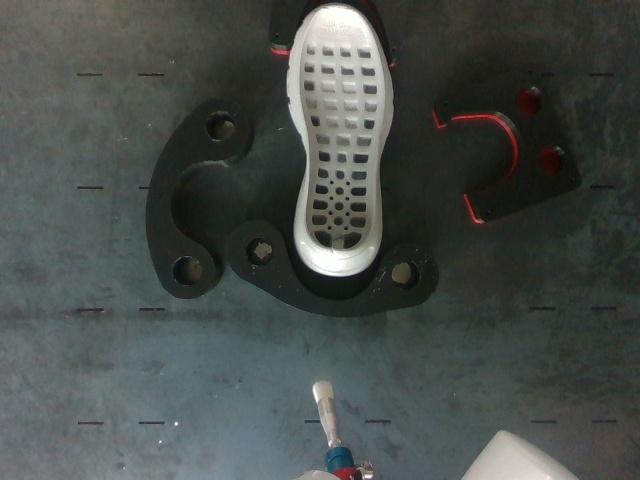shoes: (299, 4, 384, 252)
